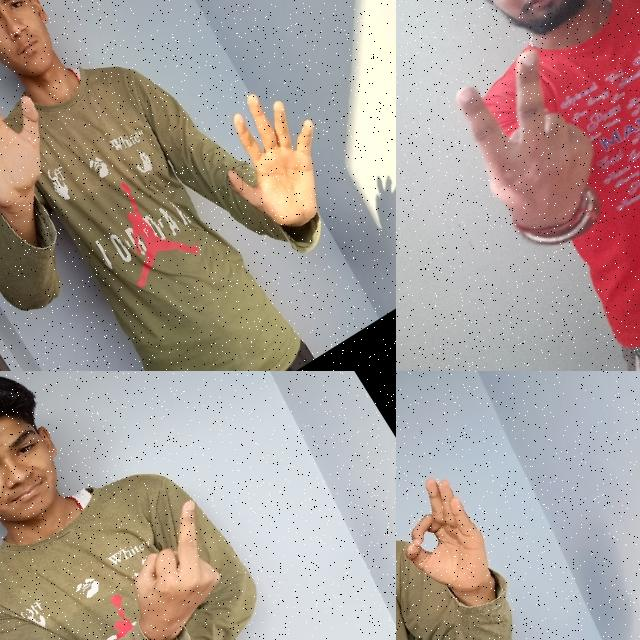Middle Finger: (94, 484, 261, 640)
Moutza: (185, 56, 376, 262), (0, 4, 88, 242)
Okay: (396, 461, 521, 625)
Reversed Victory: (423, 21, 638, 259)
